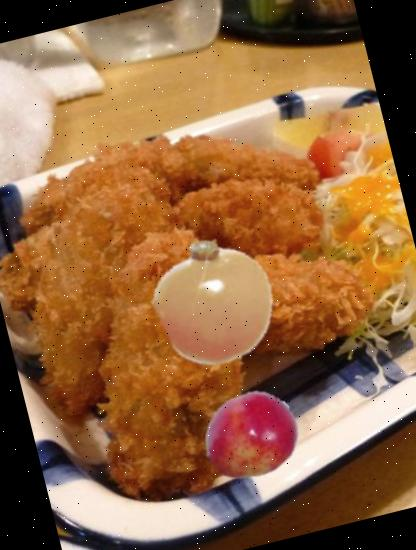Cherry: (194, 378, 310, 494)
Physalis: (137, 224, 293, 380)
